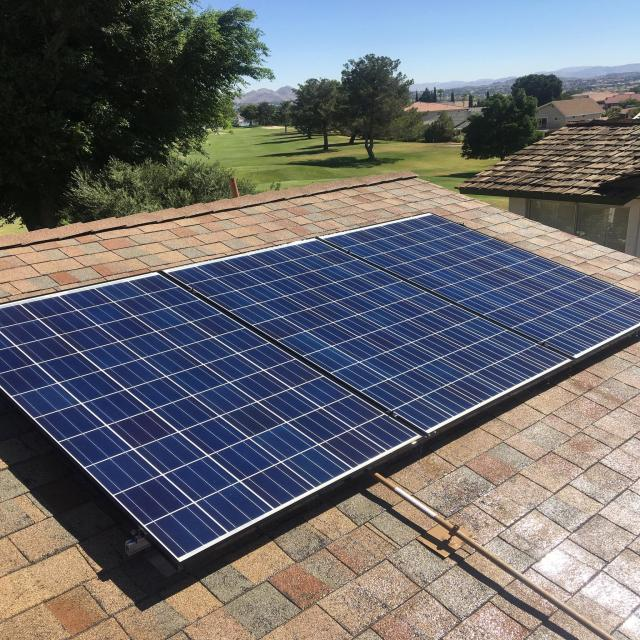clean-solar-panel: (2, 214, 638, 561)
